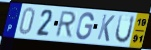0: (18, 6, 36, 36)
2: (35, 9, 54, 38)
G: (75, 12, 95, 41)
K: (96, 13, 116, 43)
R: (54, 10, 78, 39)
U: (113, 14, 136, 45)
